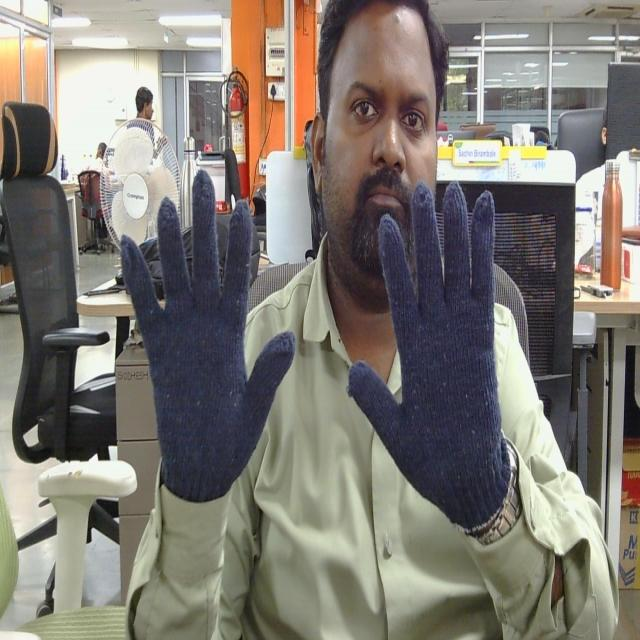Gloves-Detection: (335, 182, 520, 525), (116, 170, 296, 499)
